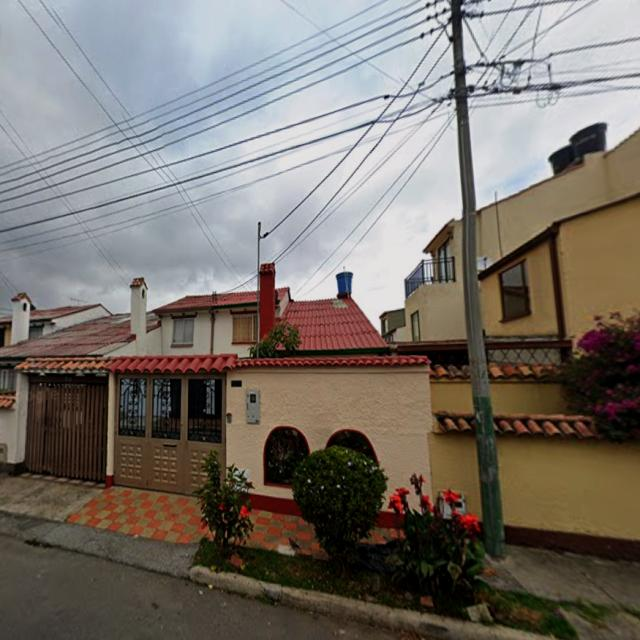fachada: (0, 265, 429, 511), (476, 125, 639, 363), (0, 294, 109, 346), (380, 308, 407, 343)
poste: (452, 0, 504, 556), (256, 222, 261, 357)
